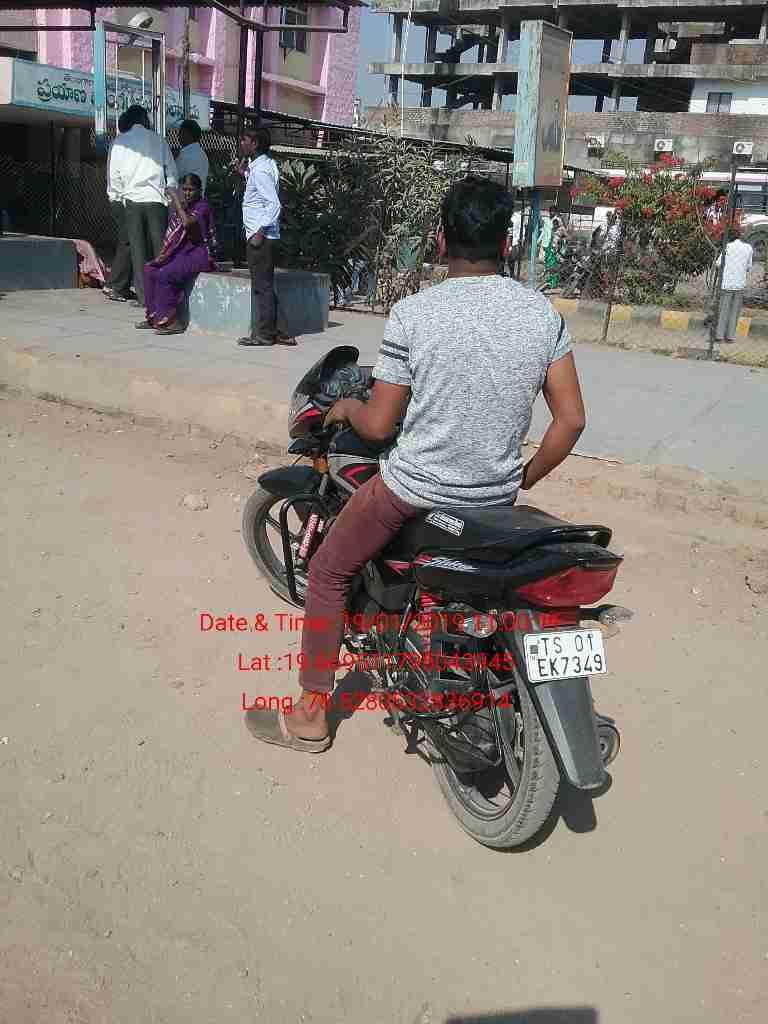plate: (521, 625, 611, 686)
